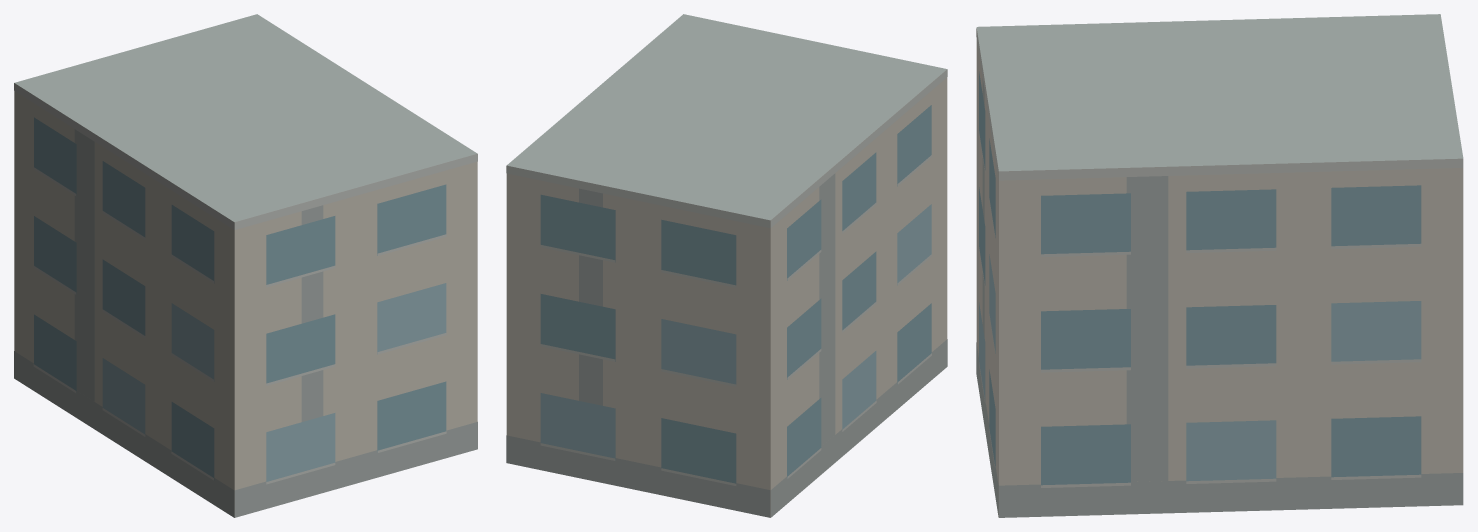
The model's file is residential-20d12fc0-f0c5-4009-9e9d-8b9b38202d16.glb.
3 views of the same model, side by side, from view 1: azimuth 30°, elevation 25°; view 2: azimuth 150°, elevation 25°; view 3: azimuth 270°, elevation 25° (orthographic). The views are drawn at different scales.
Parts seen in each view (by area): view 1: residential-20d12fc0-f0c5-4009-9e9d-8b9b38202d16.tmp; view 2: residential-20d12fc0-f0c5-4009-9e9d-8b9b38202d16.tmp; view 3: residential-20d12fc0-f0c5-4009-9e9d-8b9b38202d16.tmp.
Part boxes in pixels (x1,y1,x2,y2): residential-20d12fc0-f0c5-4009-9e9d-8b9b38202d16.tmp: (14,14,477,517); residential-20d12fc0-f0c5-4009-9e9d-8b9b38202d16.tmp: (506,14,947,517); residential-20d12fc0-f0c5-4009-9e9d-8b9b38202d16.tmp: (976,14,1463,517).
Size of the model in its own units: 8.92 by 9.15 by 11.67.
